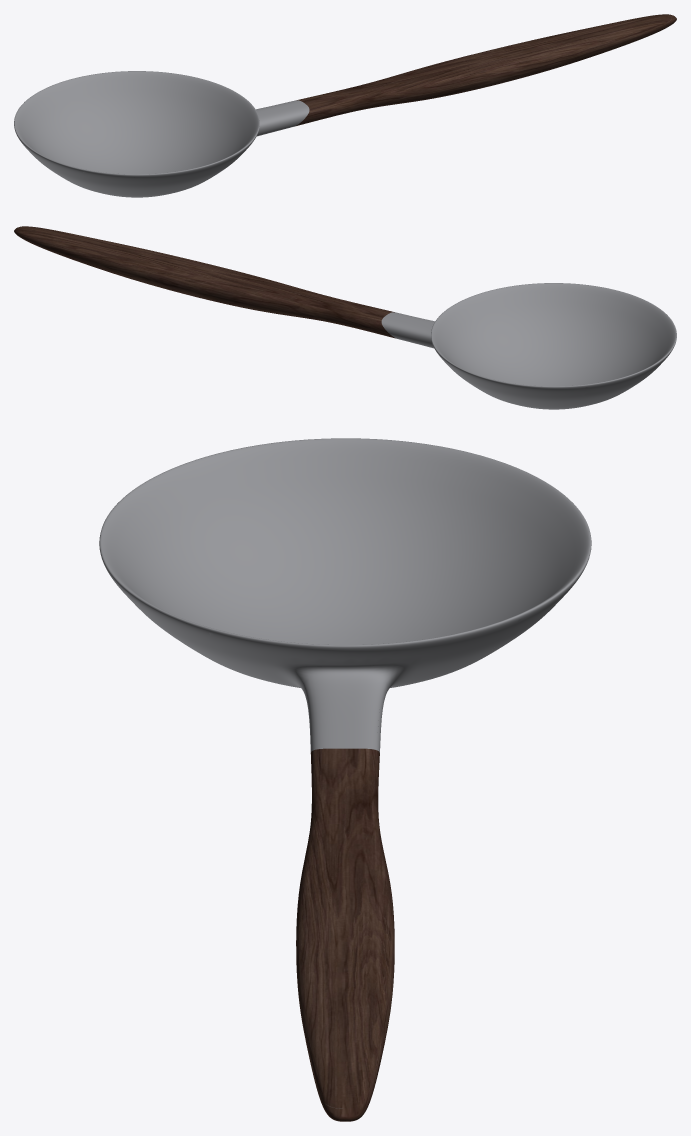
Rendered from ladle_b.glb.
The picture shows the model from 3 angles, top to bottom: view 1: azimuth 30°, elevation 25°; view 2: azimuth 150°, elevation 25°; view 3: azimuth 270°, elevation 25°; orthographic projection. The views are drawn at different scales.
Visible parts, largest first — view 1: defaultMaterial; view 2: defaultMaterial; view 3: defaultMaterial.
Part boxes in pixels (box(x1,y1,x2,y2)): defaultMaterial: box(14, 14, 676, 197); defaultMaterial: box(14, 226, 676, 409); defaultMaterial: box(99, 438, 591, 1121).
Size of the model in its own units: 0.34 by 0.0309 by 0.1123.
Materials: 2 (2 with a texture image).
